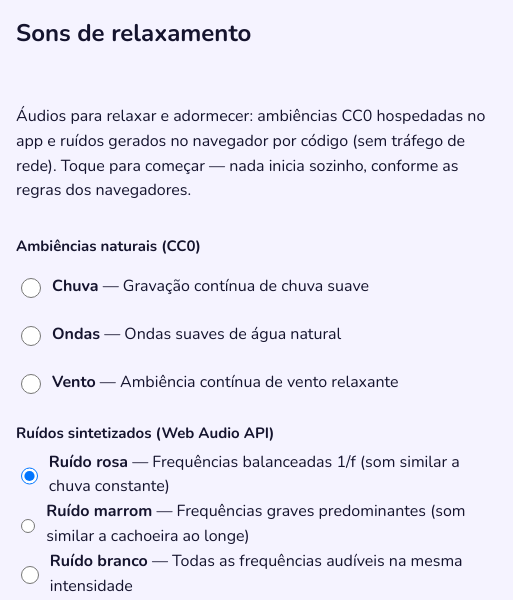
Test case: tela de Sons › falha no carregamento de arquivo de áudio exibe alerta sugerindo ruídos
The width and height of the screenshot is (513, 600).
Note: Seleciona uma ambiência (ex.: ondas)
Click the radio button labelled "Ondas — Ondas suaves de água natural": click(31, 336) [21,326,41,346]
(page scrolled)
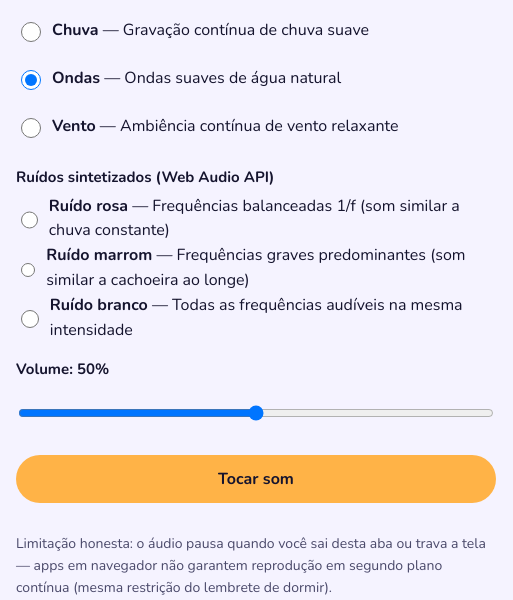
Click the button "Tocar som": click(256, 479) [16,455,496,503]
(page scrolled)
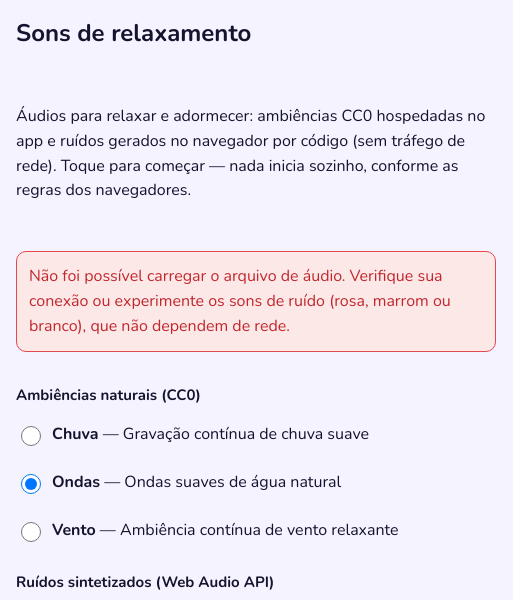
Result: the message shows "Não foi possível carregar o arquivo de áudio" at [29,265,451,337]
Result: the message shows "experimente os sons de ruído" at [29,265,451,337]
